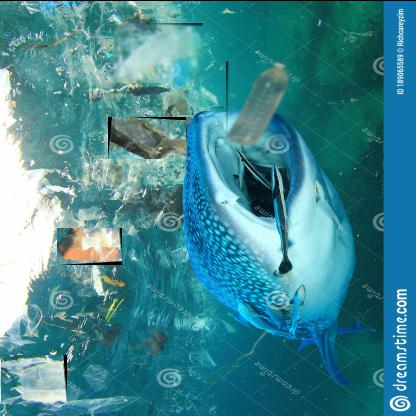bottle: (226, 59, 292, 144)
plastic-bag: (114, 21, 204, 82)
waste: (108, 115, 187, 158), (1, 353, 68, 403), (57, 226, 123, 263), (128, 328, 170, 354)
